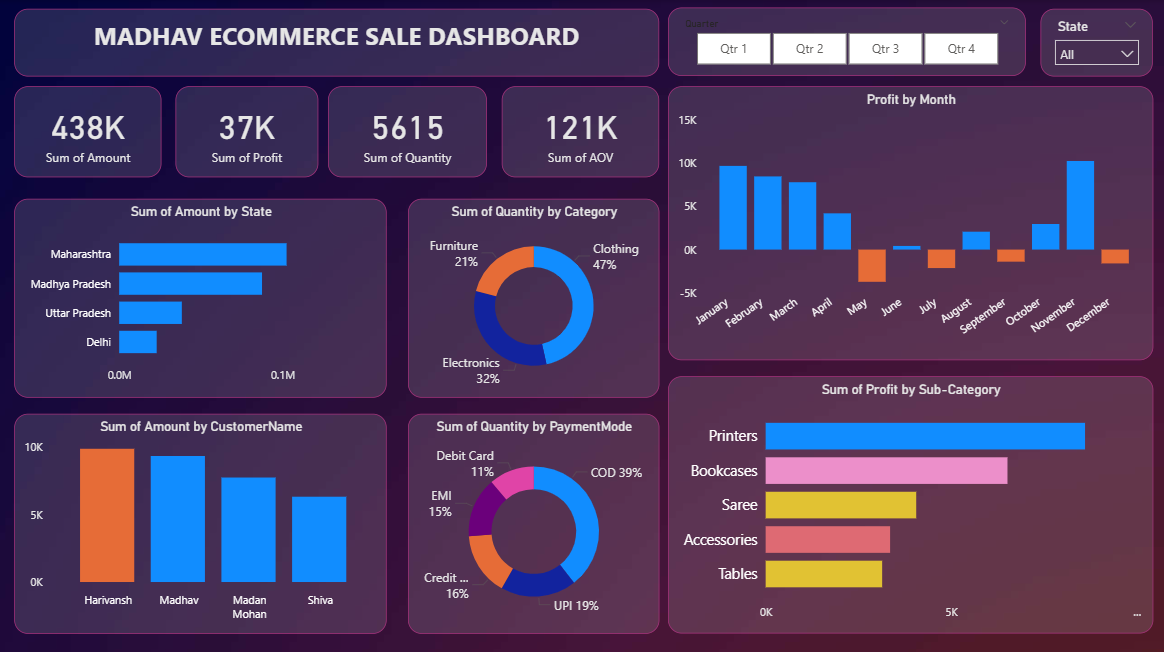

The dashboard page shown, as its layout file describes it:
{"tool":"powerbi","page":{"name":"Page 1","canvas":[1280,720],"ordinal":0},"visuals":[{"type":"textbox","box":[17.8,9.6,708.1,74.1],"z":0},{"type":"columnChart","title":"Profit by Month","fields":{"Y":["Sum(Details.Profit)"],"Category":["Orders.Order Date.Variation.Date Hierarchy.Month"]},"box":[735.5,94.7,532.4,300.5],"z":1000},{"type":"donutChart","fields":{"Category":["Details.Category"],"Y":["Sum(Details.Quantity)"]},"box":[450.1,218.2,275.8,218.2],"z":2000},{"type":"donutChart","fields":{"Category":["Details.PaymentMode"],"Y":["Sum(Details.Quantity)"]},"box":[450.1,454.2,275.8,241.5],"z":3000},{"type":"card","fields":{"Values":["Sum(Details.Amount)"]},"box":[17.8,94.7,161.9,100.2],"z":4000},{"type":"card","fields":{"Values":["Sum(Details.Quantity)"]},"box":[362.3,94.7,174.3,100.2],"z":5000},{"type":"card","fields":{"Values":["Sum(Details.Profit)"]},"box":[194.9,94.7,156.4,100.2],"z":6000},{"type":"card","fields":{"Values":["Sum(Details.CAOV)"]},"box":[553,94.7,172.9,100.2],"z":7000},{"type":"barChart","fields":{"Category":["Details.Sub-Category"],"Y":["Sum(Details.Profit)"]},"box":[735.5,413,532.4,282.7],"z":8000},{"type":"barChart","fields":{"Category":["Orders.State"],"Y":["Sum(Details.Amount)"]},"box":[17.8,218.2,408.9,218.2],"z":9000},{"type":"columnChart","fields":{"Category":["Orders.CustomerName"],"Y":["Sum(Details.Amount)"]},"box":[17.8,454.2,408.9,241.5],"z":10000},{"type":"slicer","fields":{"Values":["Orders.Order Date.Variation.Date Hierarchy.Quarter"]},"box":[735.5,8.2,392.5,75.5],"z":10001},{"type":"slicer","fields":{"Values":["Orders.State"]},"box":[1144.4,9.6,123.5,74.1],"z":10002}]}

Visuals, with their boxes in screenshot pixels (x1, y1, x2, y2), scaled from the page's 1280x720 canvas onto the 1164x652 screenshot:
textbox: 16:9:660:76
"Profit by Month" columnChart: 669:86:1153:358
donutChart - Details.Category x Sum(Details.Quantity): 409:198:660:395
donutChart - Details.PaymentMode x Sum(Details.Quantity): 409:411:660:630
card - Sum(Details.Amount): 16:86:163:176
card - Sum(Details.Quantity): 329:86:488:176
card - Sum(Details.Profit): 177:86:319:176
card - Sum(Details.CAOV): 503:86:660:176
barChart - Details.Sub-Category x Sum(Details.Profit): 669:374:1153:630
barChart - Orders.State x Sum(Details.Amount): 16:198:388:395
columnChart - Orders.CustomerName x Sum(Details.Amount): 16:411:388:630
slicer - Orders.Order Date.Variation.Date Hierarchy.Quarter: 669:7:1026:76
slicer - Orders.State: 1041:9:1153:76
